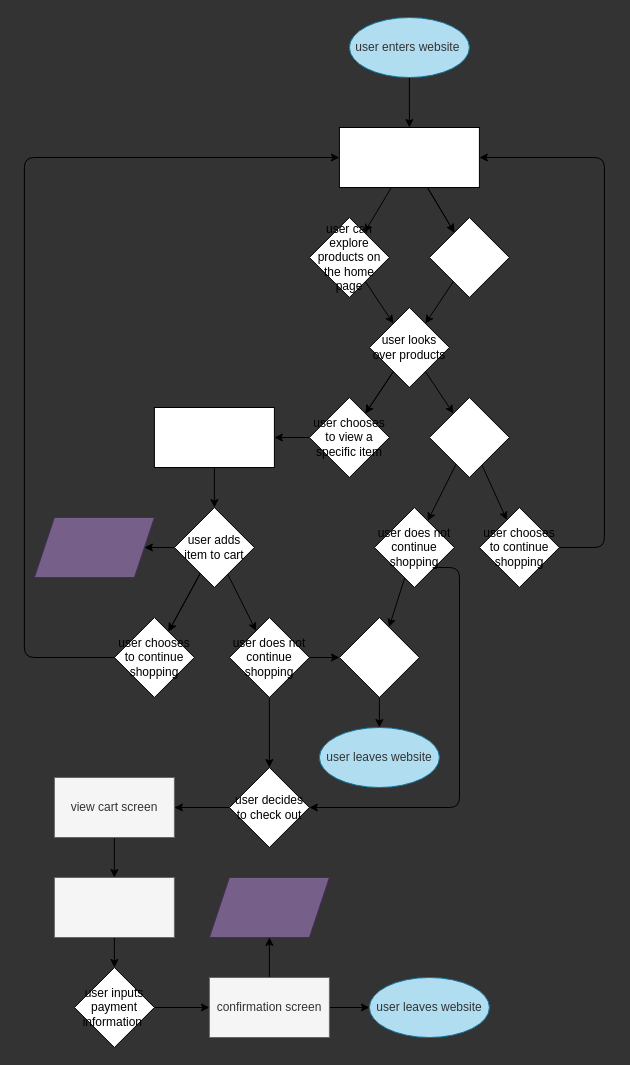
Some shapes in this 630 by 1065 pixel diagram are drawn without their labels. The centre of each missing label's shape, as x and y in pixels:
"home page" goes at (408,157).
"page with a specific item" goes at (213,437).
"receives cart confirmation" goes at (93,547).
"receives confirmation email" goes at (268,907).
"user decides not to check out" goes at (378,657).
"user does not choose to view a specific item" goes at (468,437).
"user searches for products" goes at (468,257).
"view payment screen" goes at (113,907).
